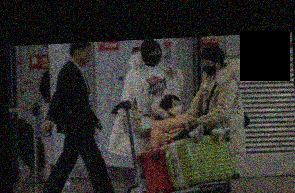with_mask: (200, 59, 217, 76), (147, 49, 162, 65), (168, 101, 183, 116)
without_mask: (79, 48, 92, 66)
